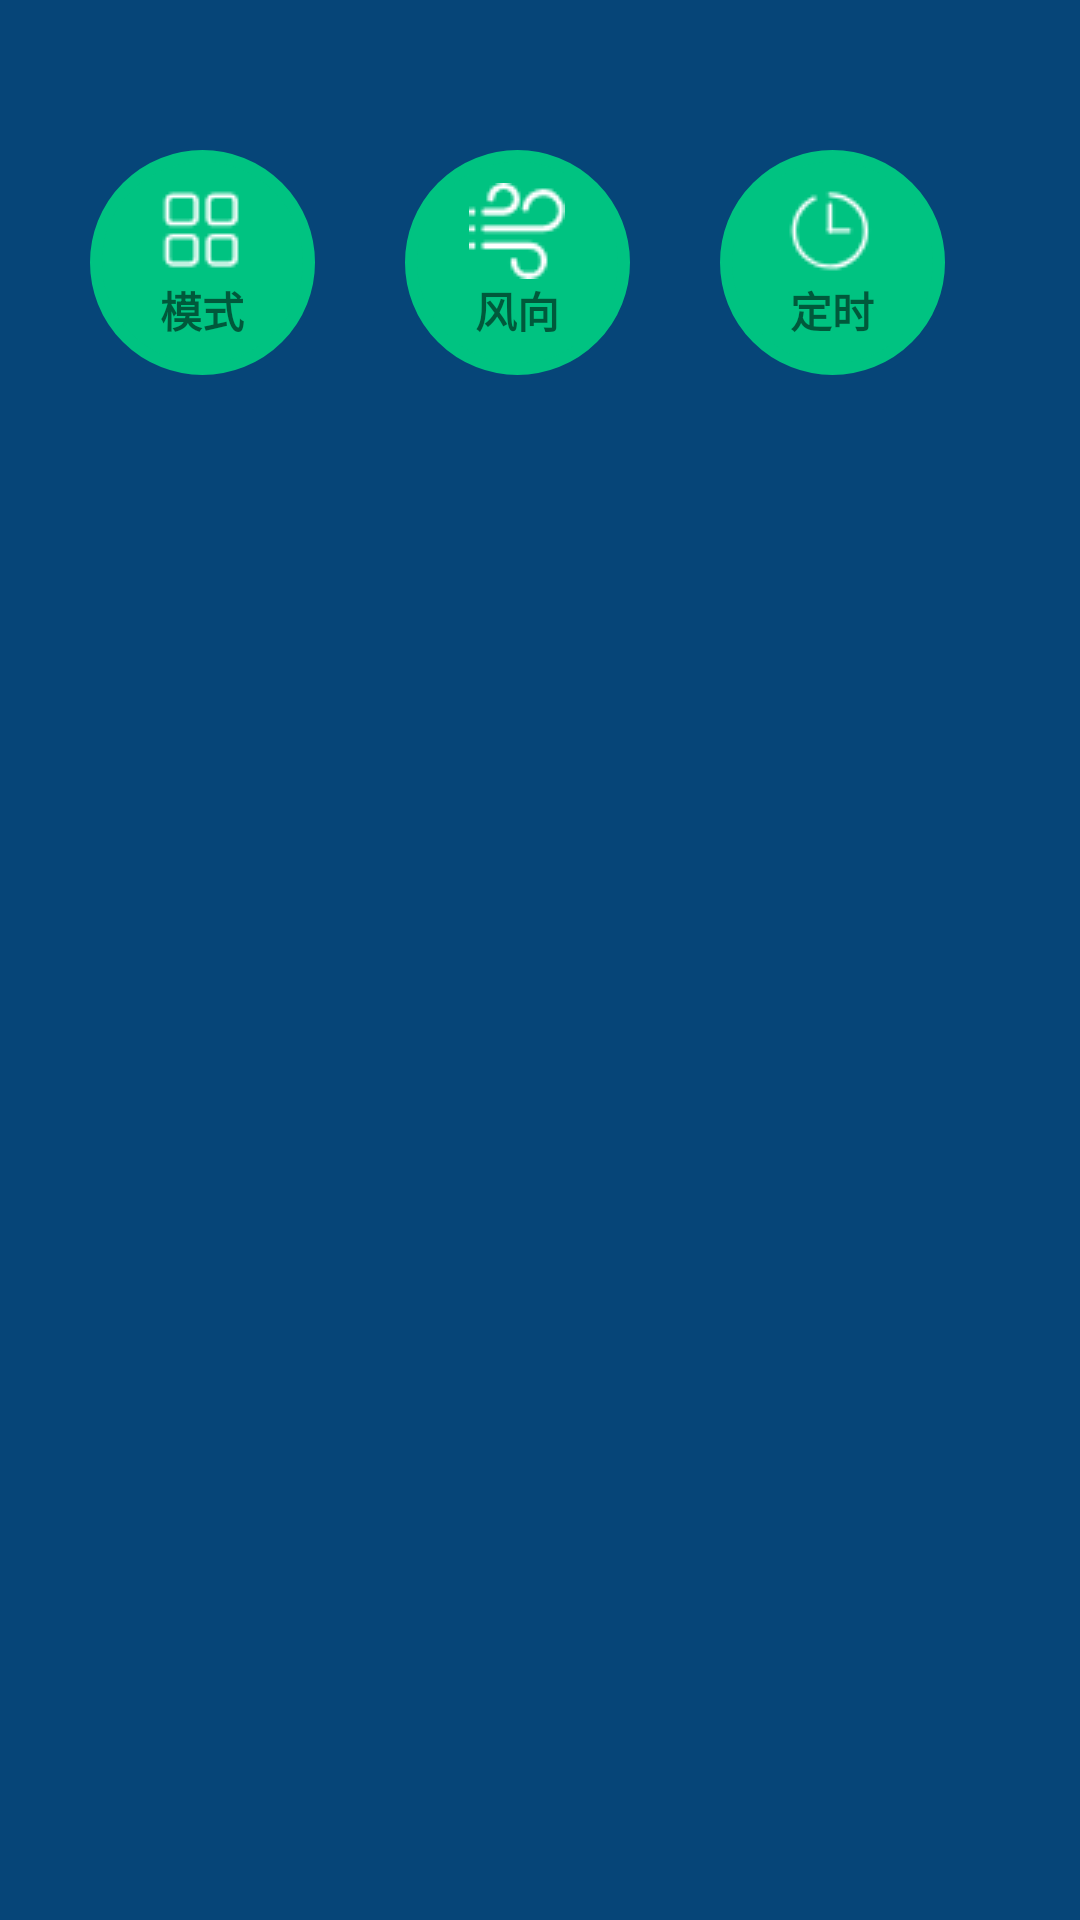

Named icons in this screenshot (1080 × 1920) and their bounding boxes, (x1, y1, x2, y2):
clock: (789, 191, 869, 271)
